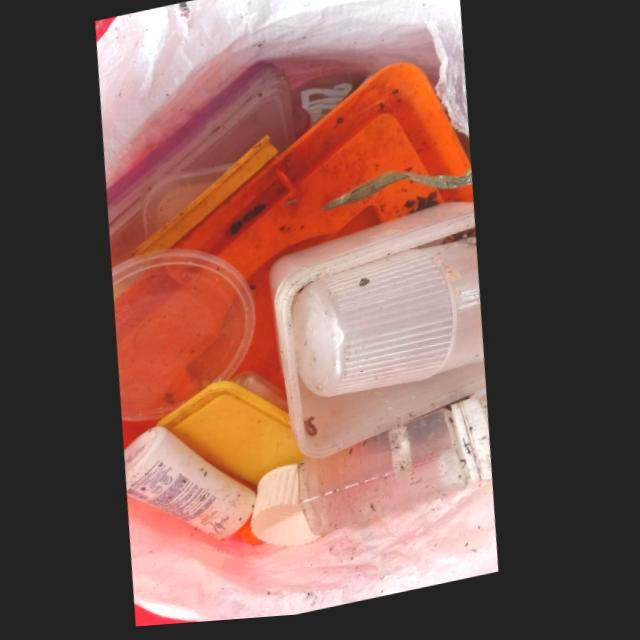plastic_bottle: (296, 244, 490, 402), (304, 406, 500, 541), (130, 429, 273, 550)
plastic_container: (184, 67, 476, 403), (272, 208, 492, 463), (115, 251, 260, 424)
